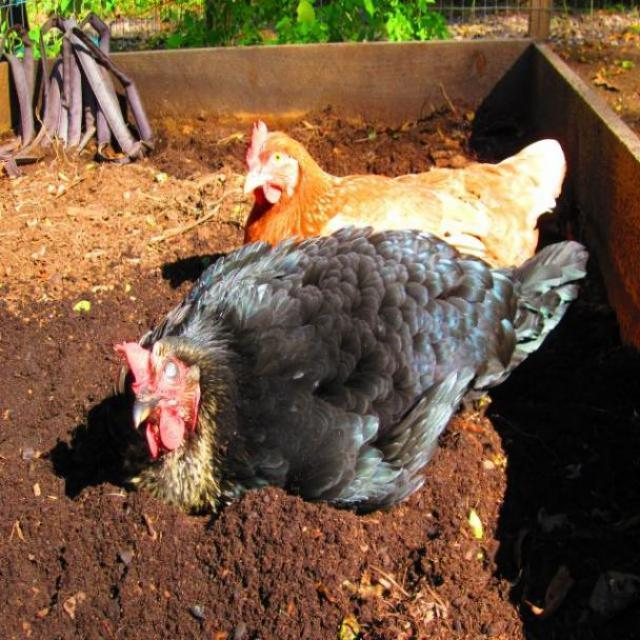Chicken: (117, 237, 576, 508), (244, 119, 561, 226)
